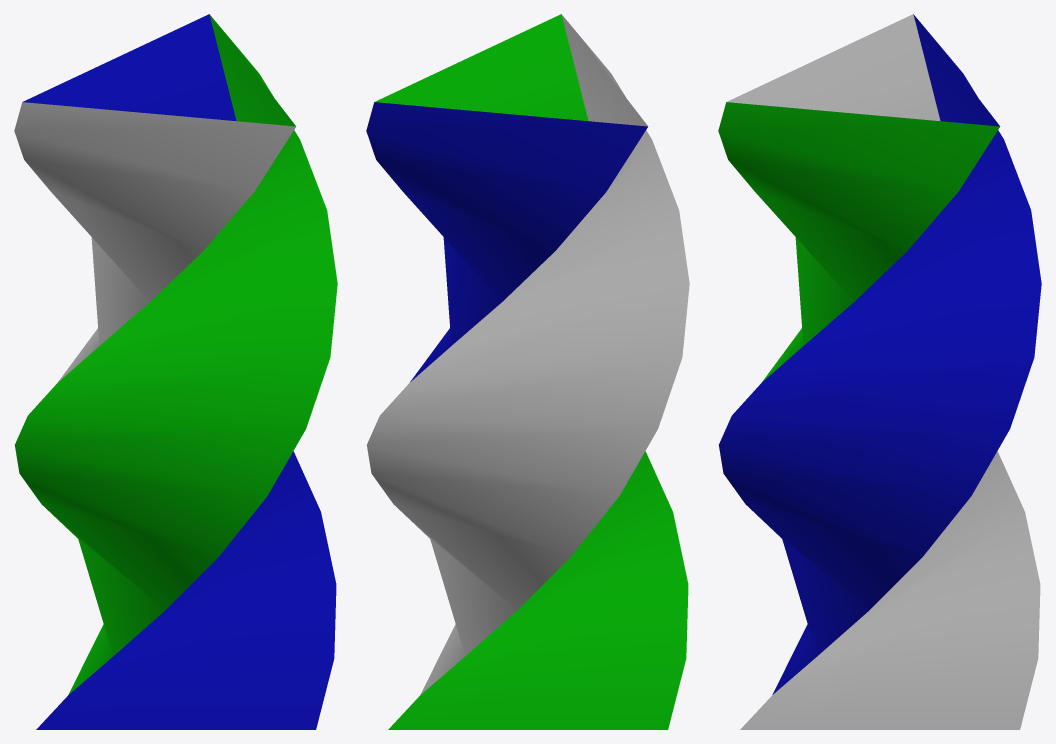
File: 11-Prism.fbx
3 renders of one model, left to right at view 1: azimuth 30°, elevation 25°; view 2: azimuth 150°, elevation 25°; view 3: azimuth 270°, elevation 25°, orthographic.
Parts seen in each view (by area): view 1: Prism; view 2: Prism; view 3: Prism.
Part boxes in pixels (x1,y1,x2,y2): Prism: [14, 14, 337, 729]; Prism: [366, 14, 689, 729]; Prism: [718, 14, 1041, 729].
Size of the model in its own units: 200 by 419 by 200.
